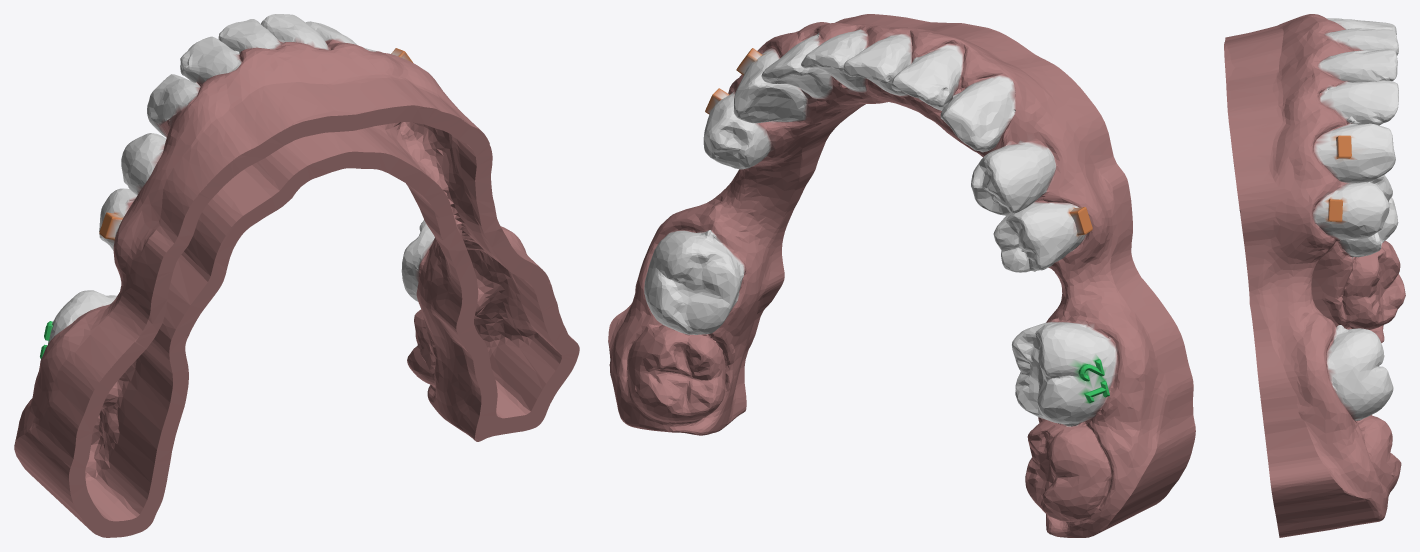
File: lower-model-12.glb
3 views of the same model, side by side, from view 1: azimuth 30°, elevation 25°; view 2: azimuth 150°, elevation 25°; view 3: azimuth 270°, elevation 25° (orthographic). The views are drawn at different scales.
Parts seen in each view (by area): view 1: 12 (1); view 2: 12 (1); view 3: 12 (1).
Part boxes in pixels (left/top/right/bottom): 12 (1): left=14, top=14, right=579, bottom=537; 12 (1): left=608, top=14, right=1195, bottom=537; 12 (1): left=1224, top=14, right=1405, bottom=537.
Size of the model in its own units: 64.23 by 50.68 by 20.71.
